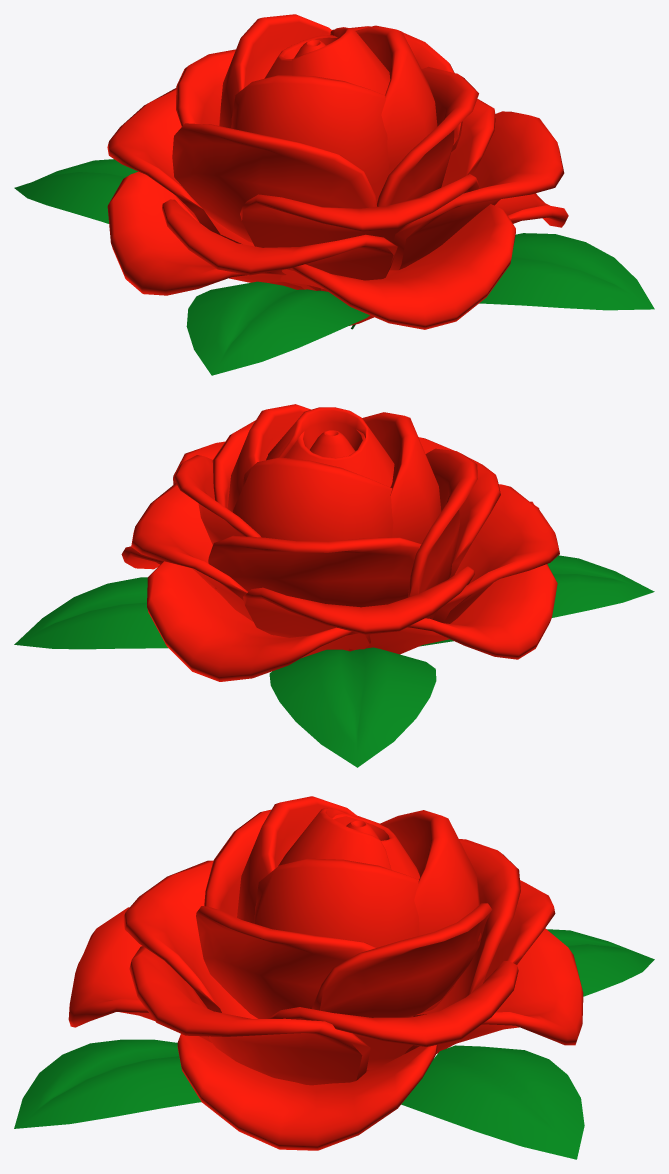
File: Cake_ThemeFLowers_D.FBX
3 views of the same model, one above another, from view 1: azimuth 30°, elevation 25°; view 2: azimuth 150°, elevation 25°; view 3: azimuth 270°, elevation 25° (orthographic). The views are drawn at different scales.
Parts seen in each view (by area): view 1: Cake_ThemeFLowers_D; view 2: Cake_ThemeFLowers_D; view 3: Cake_ThemeFLowers_D.
Boxes of the visible parts, <box> form: Cake_ThemeFLowers_D: <box>14,14,654,375</box>; Cake_ThemeFLowers_D: <box>14,404,654,767</box>; Cake_ThemeFLowers_D: <box>14,796,654,1159</box>.
Bounding box in the file's own units: 74596 × 45696 × 86057.
